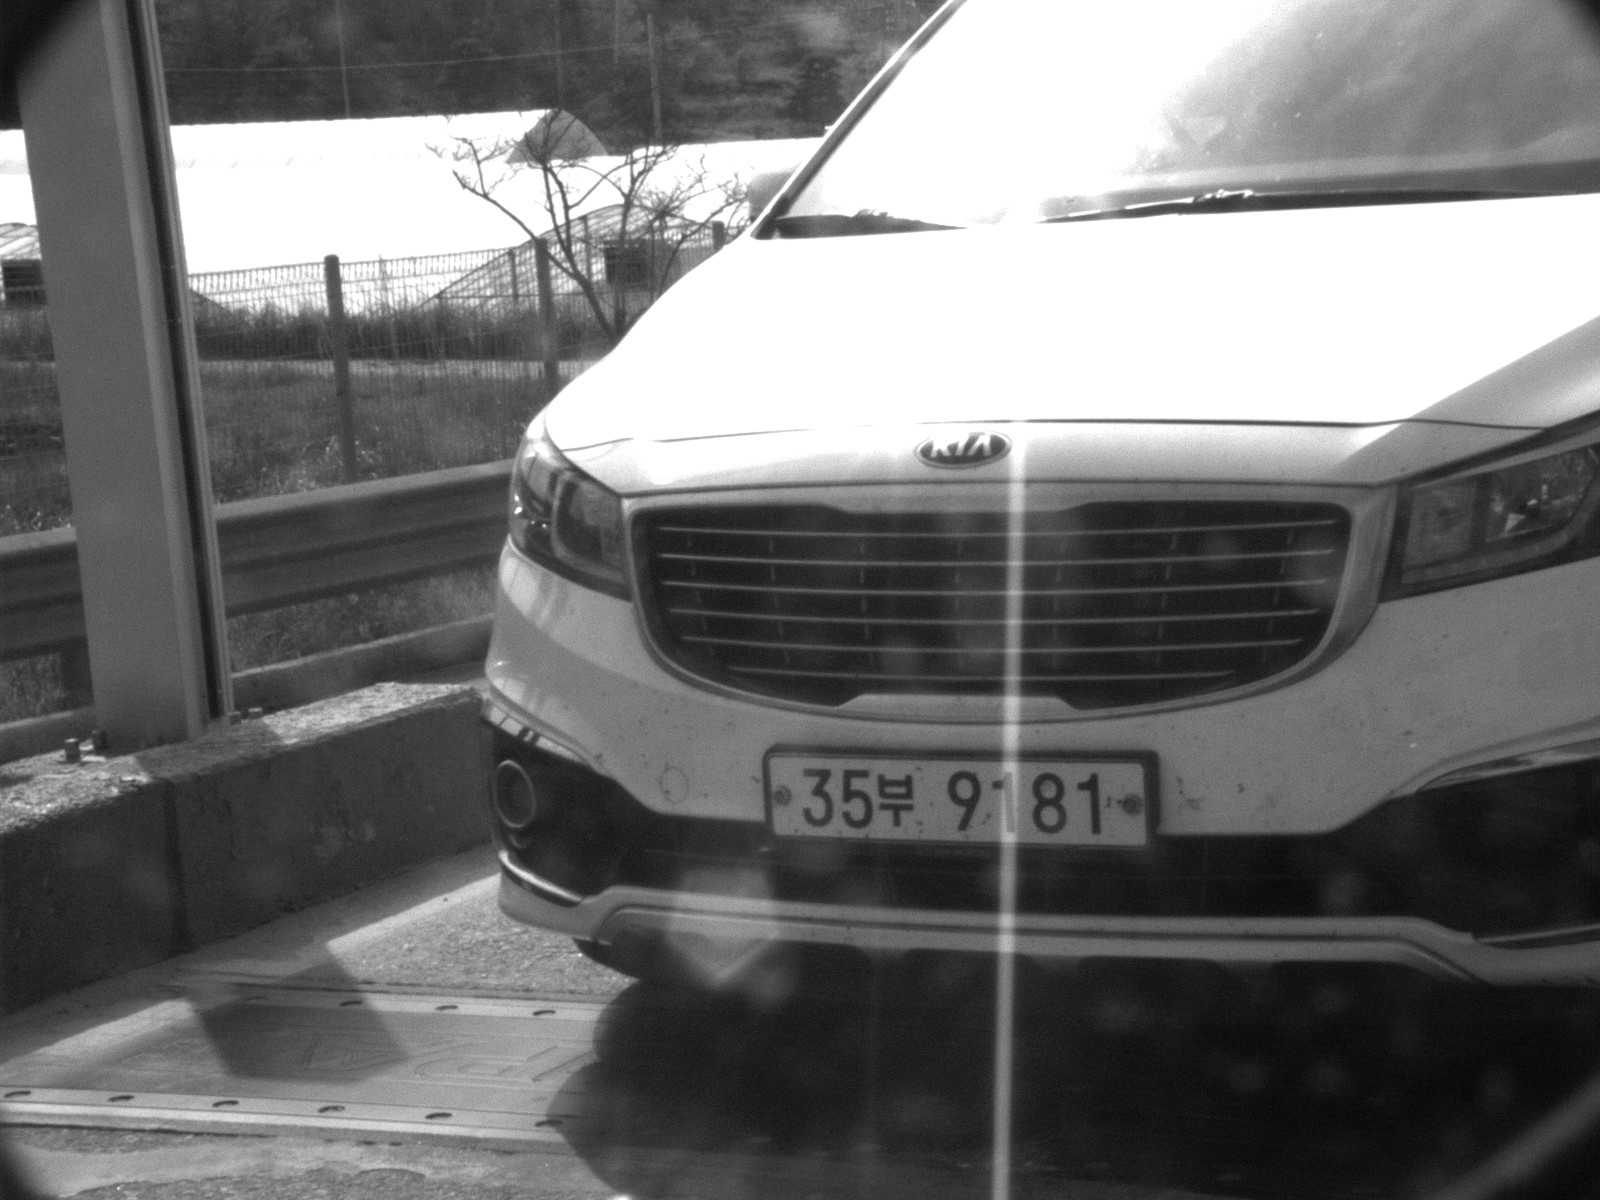car: (474, 1, 1597, 1048)
plate: (765, 748, 1155, 848)
